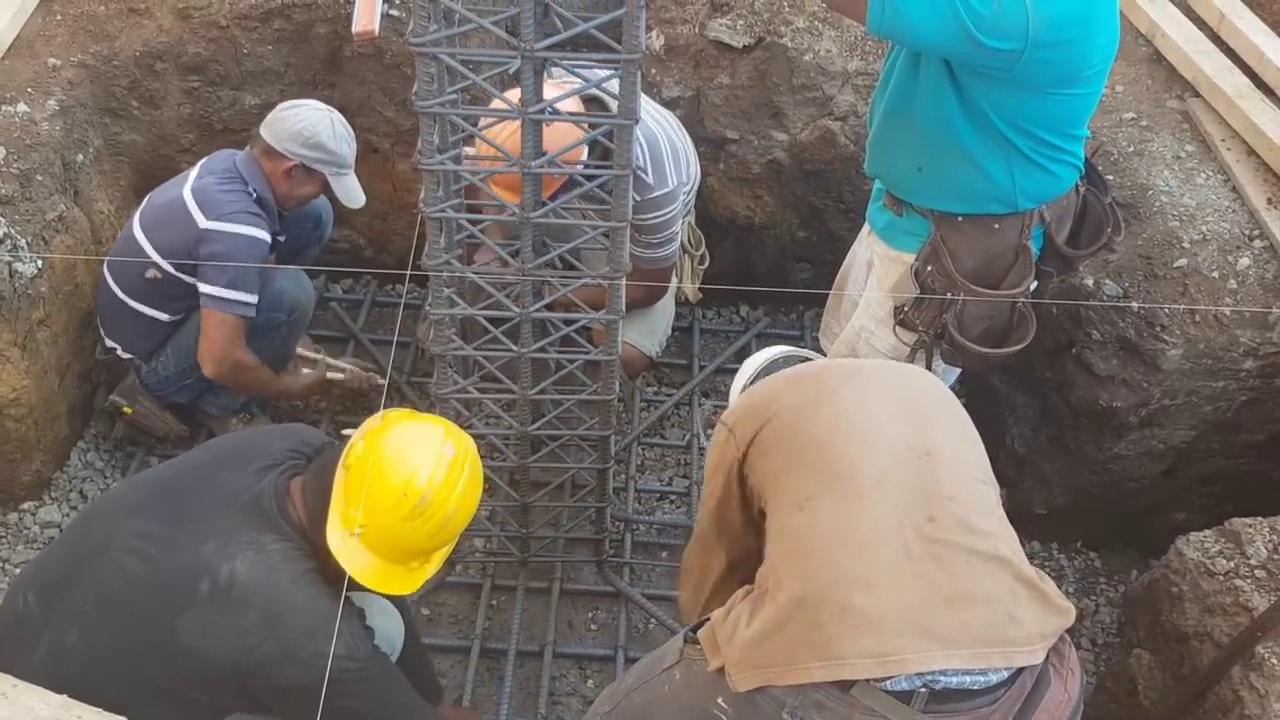helmet: (325, 418, 481, 602), (476, 79, 590, 203)
helmet-off: (251, 98, 364, 215)
helmet-on: (275, 404, 480, 614), (480, 59, 639, 216), (724, 323, 835, 429)
person: (650, 323, 1122, 720), (0, 418, 521, 720), (819, 4, 1126, 419), (94, 95, 363, 408), (464, 64, 704, 383)
